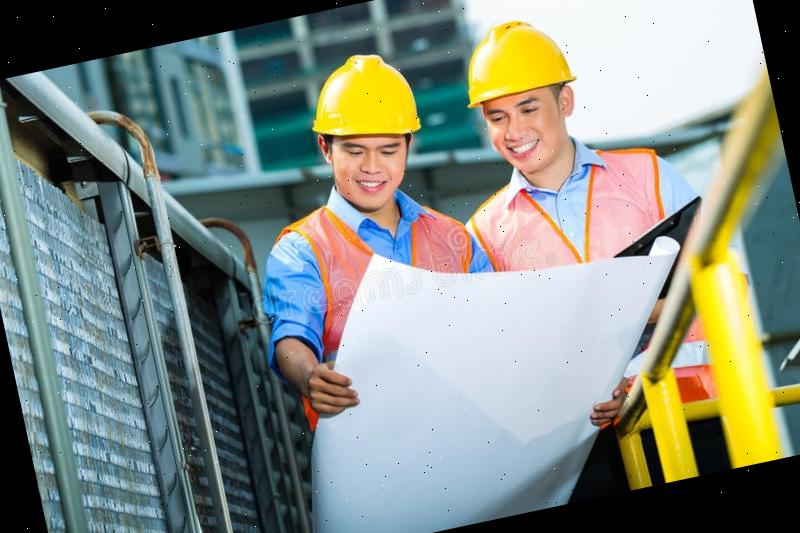helmet: (300, 40, 430, 152), (446, 10, 580, 112)
wear: (457, 145, 682, 282), (260, 184, 478, 321)
